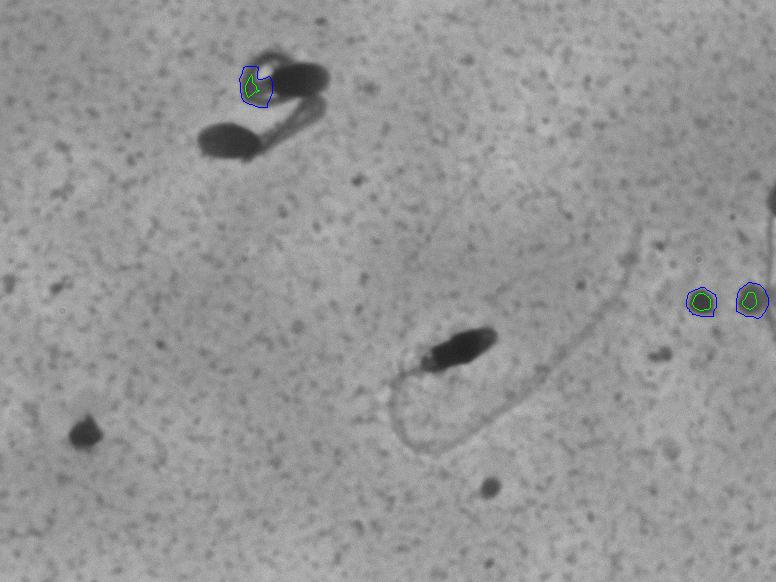Abnormal: (352, 196, 659, 481), (185, 28, 353, 189)
